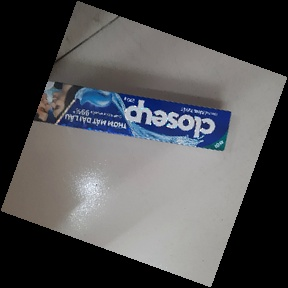CloseUp Tuyet: (29, 75, 233, 152)
